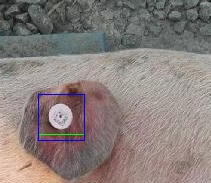text: (38, 94, 84, 134)
